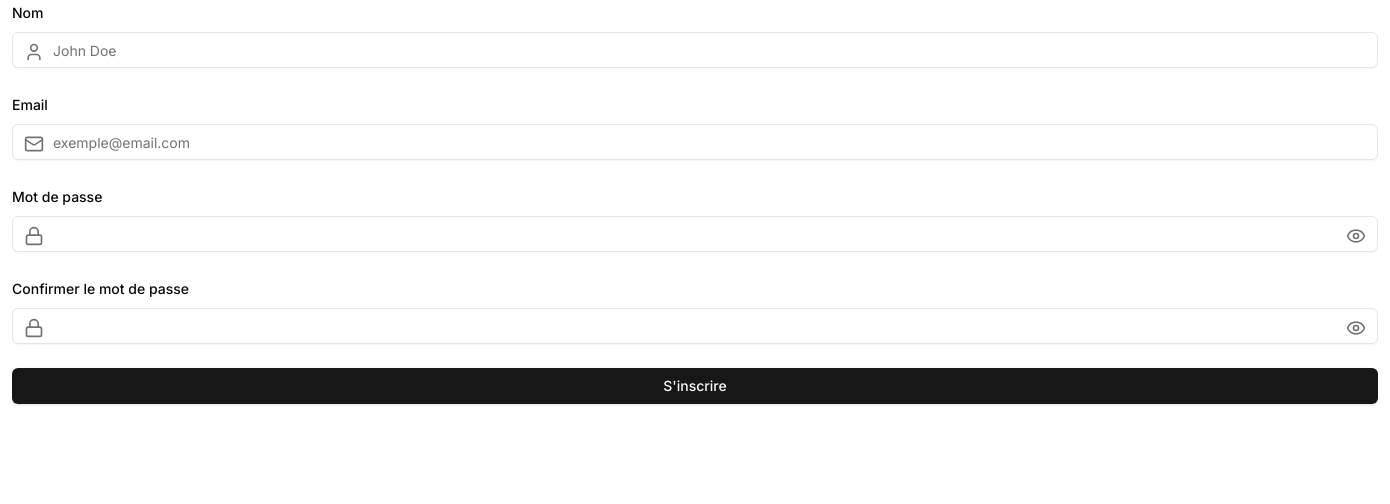
RegisterForm › devrait afficher les erreurs de validation
This screenshot has width=1390, height=504.
Click the button "S'inscrire".
click(695, 386)  # box 12,368 -> 1378,404
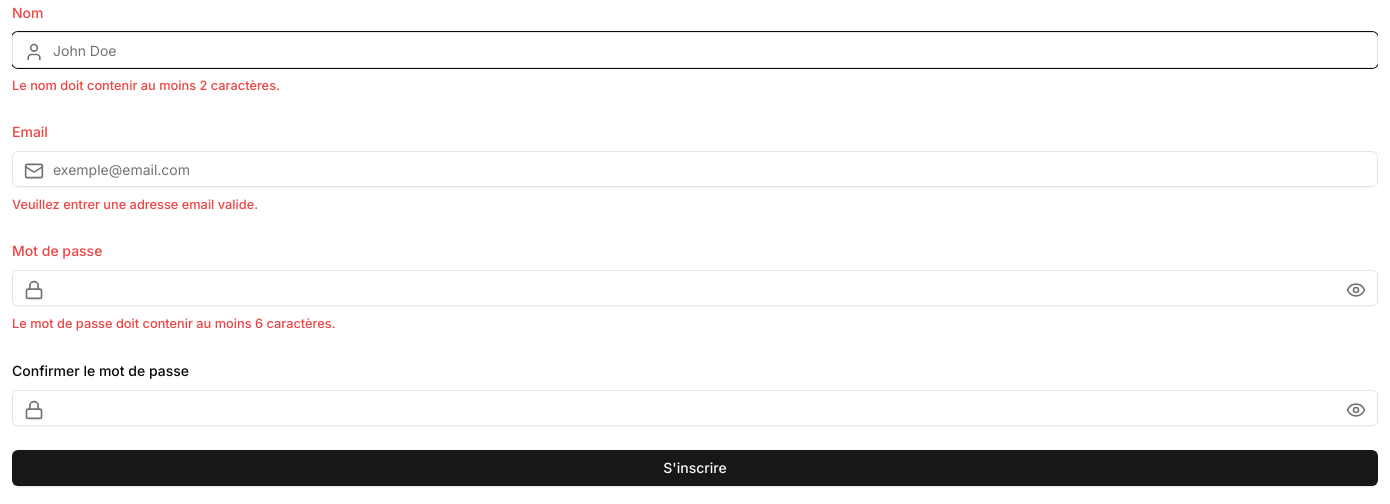
Expected: the text "Le nom doit contenir au moins 2 caractères." is shown, 12,78 -> 280,93
Expected: the text "Veuillez entrer une adresse email valide." is shown, 12,197 -> 258,212
Expected: the text "Le mot de passe doit contenir au moins 6 caractères." is shown, 12,316 -> 336,331
